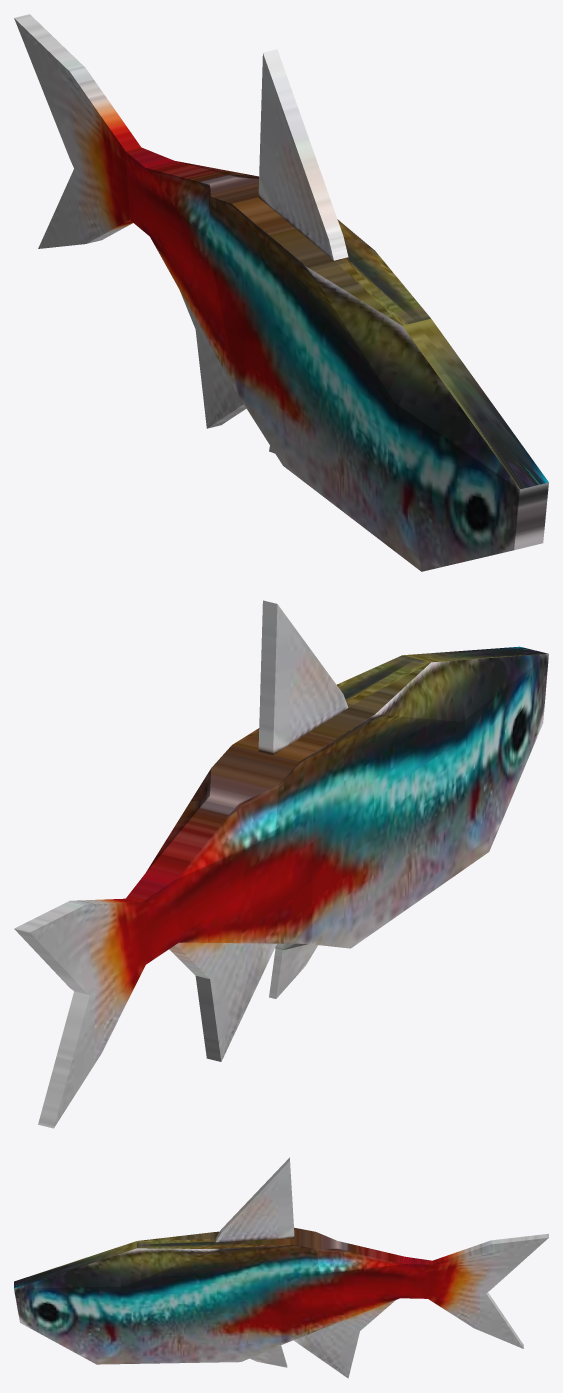
File: tetra_fish.fbx
The picture shows the model from 3 angles, top to bottom: view 1: azimuth 30°, elevation 25°; view 2: azimuth 150°, elevation 25°; view 3: azimuth 270°, elevation 25°; orthographic projection. The views are drawn at different scales.
Visible parts, largest first — view 1: Cube; view 2: Cube; view 3: Cube.
Boxes of the visible parts, x1,y1,x2,y2 form: Cube: (14, 14, 548, 571); Cube: (14, 600, 548, 1128); Cube: (14, 1157, 548, 1378).
Size of the model in its own units: 23.3 by 137 by 305.
